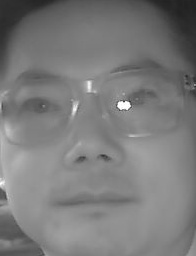eye: (22, 96, 57, 116), (128, 89, 161, 106)
glass: (99, 66, 185, 136), (1, 75, 80, 144)
mouth: (54, 179, 135, 223)
